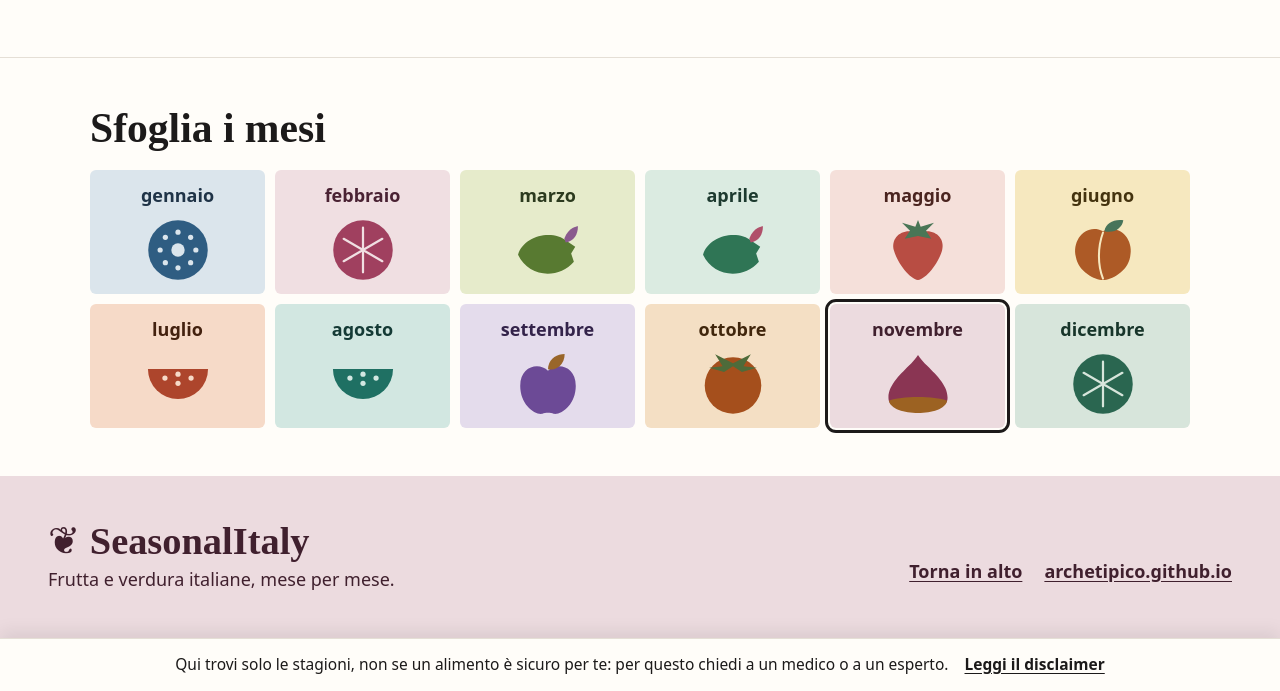
Test: App › goes back to the cover of a month picked from the tiles and focuses its title
(page scrolled)
What coordinates should you click on to do the following:
click the button "luglio"
I would click on:
 (178, 366)
Its box is [90,304,265,428].
(page scrolled)
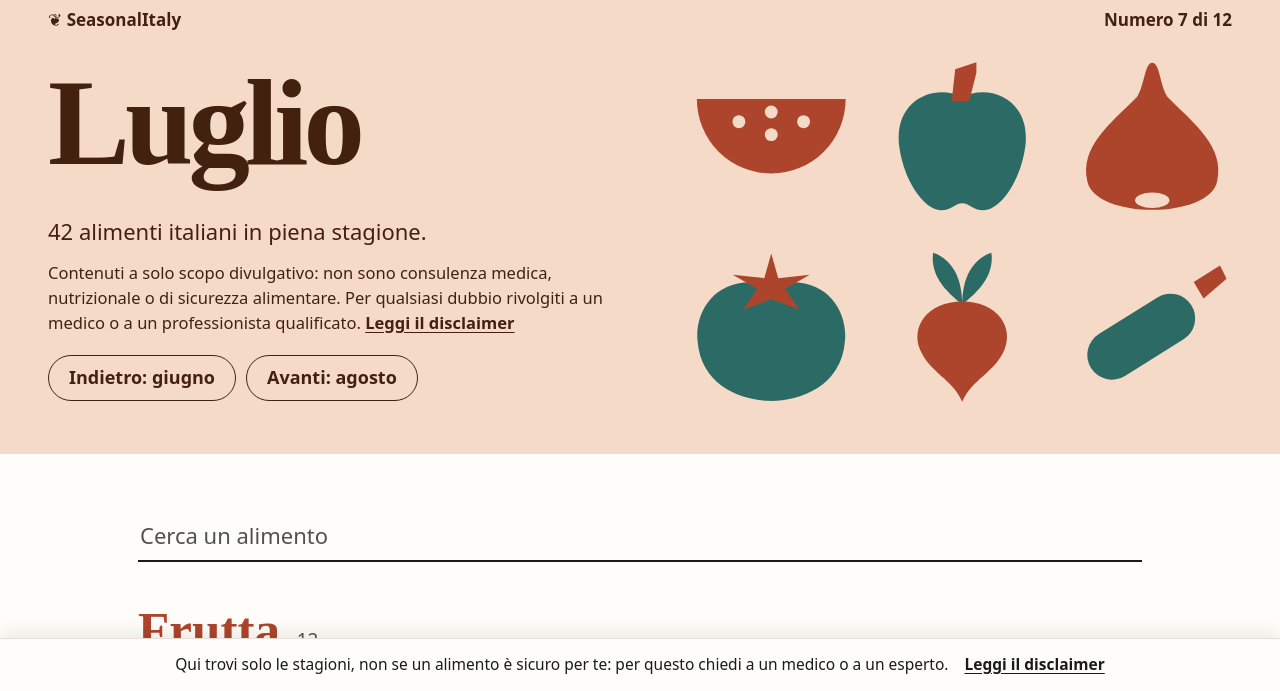
Expected: the heading "luglio" is shown, [48,54,360,191]
